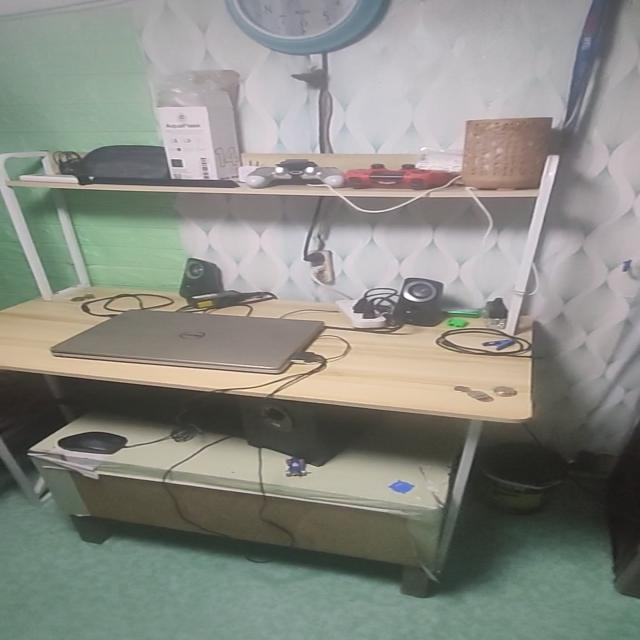table: (0, 279, 552, 609)
